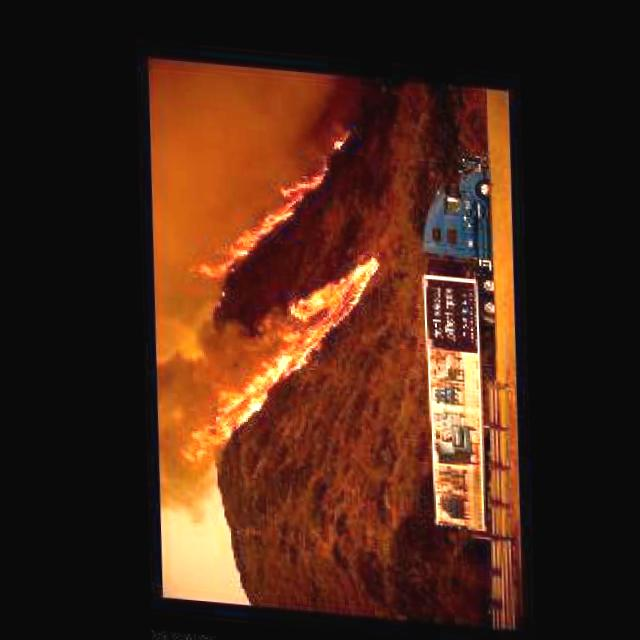Fire: (165, 159, 381, 478)
